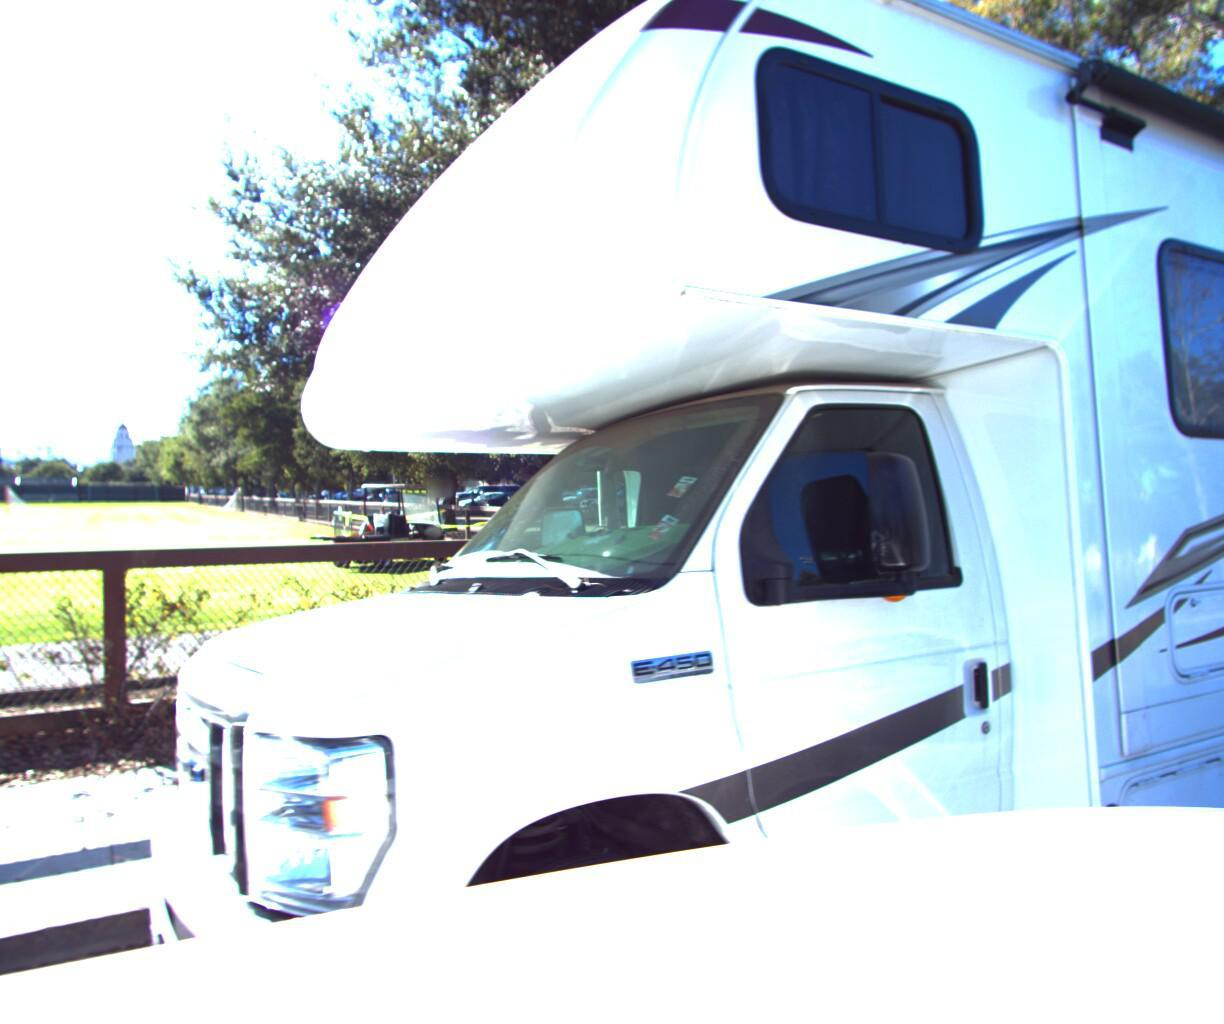other_vehicle: (103, 0, 1224, 1024), (293, 473, 465, 583)
